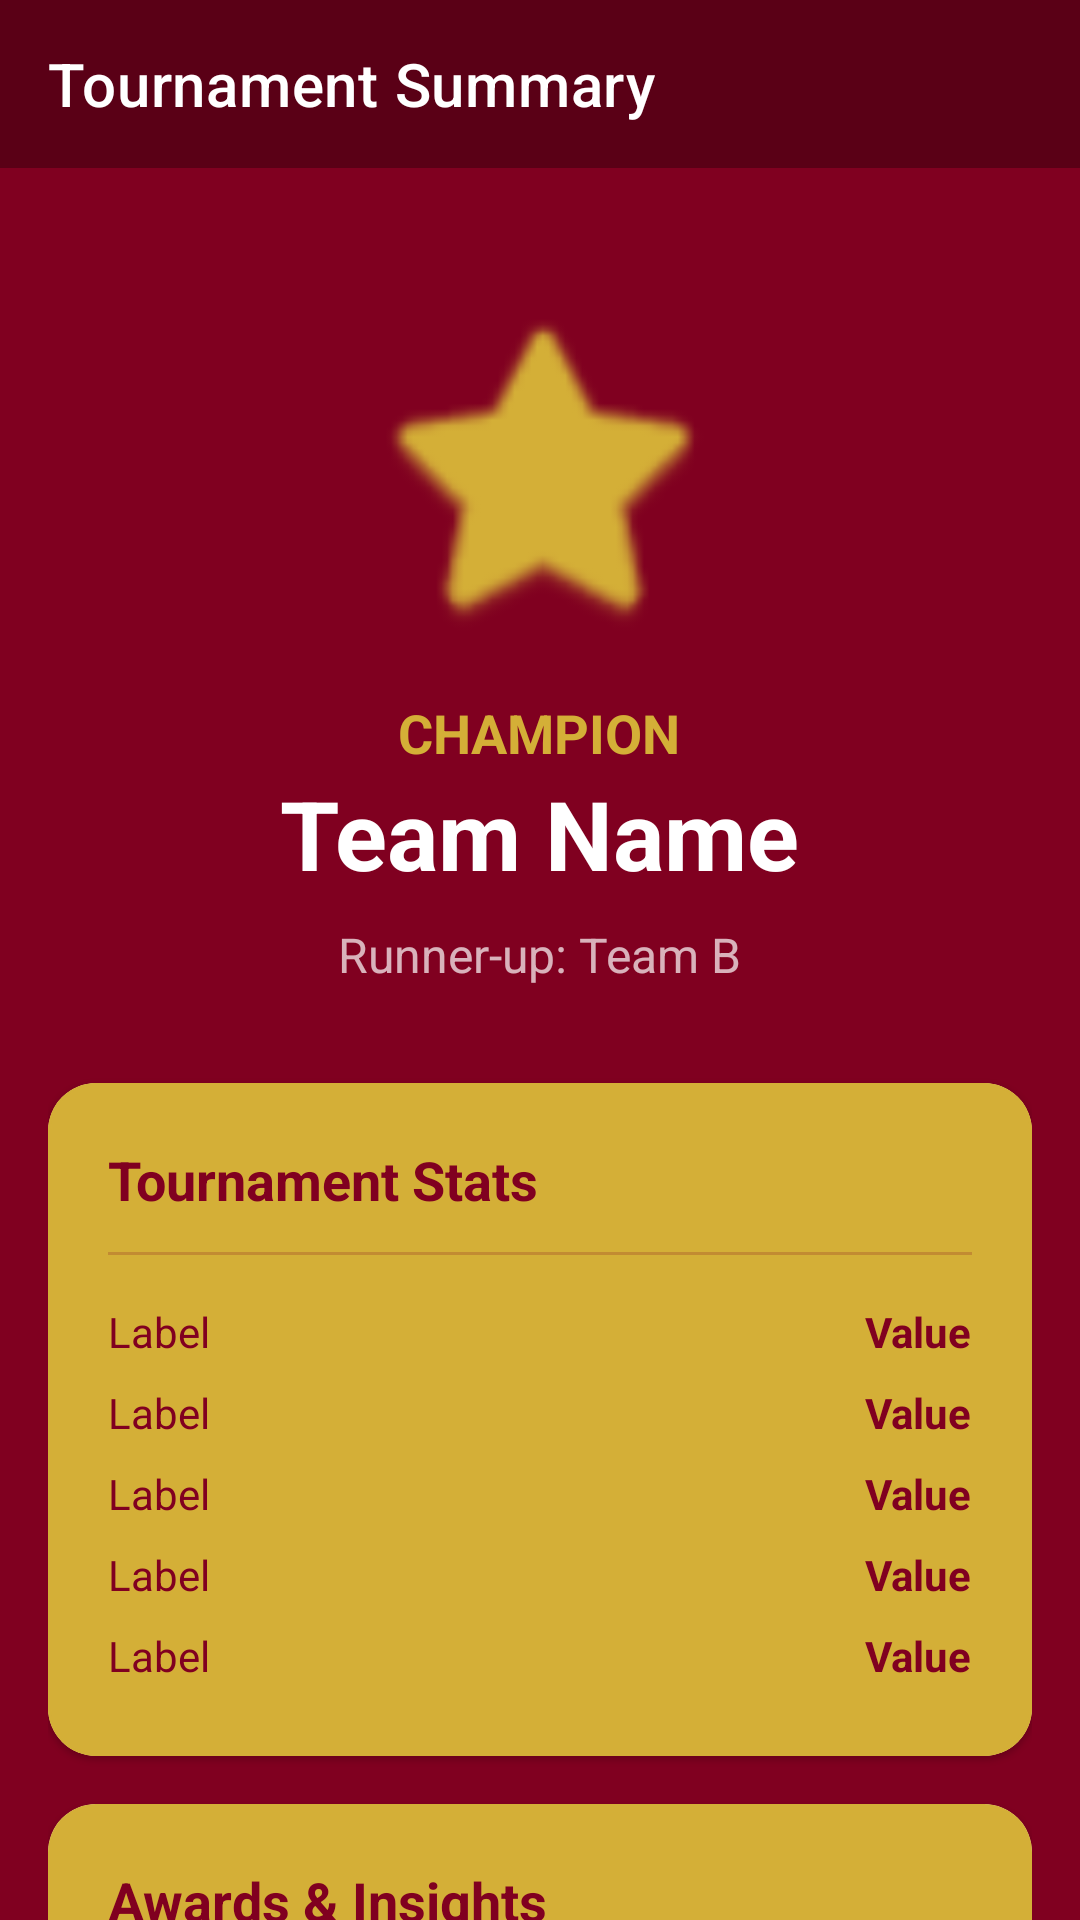

Locate icon controls on the screen. Image size 1080px×1920px, boxes as [x1,y1,x2,y2].
star on: [393,325,693,616]
